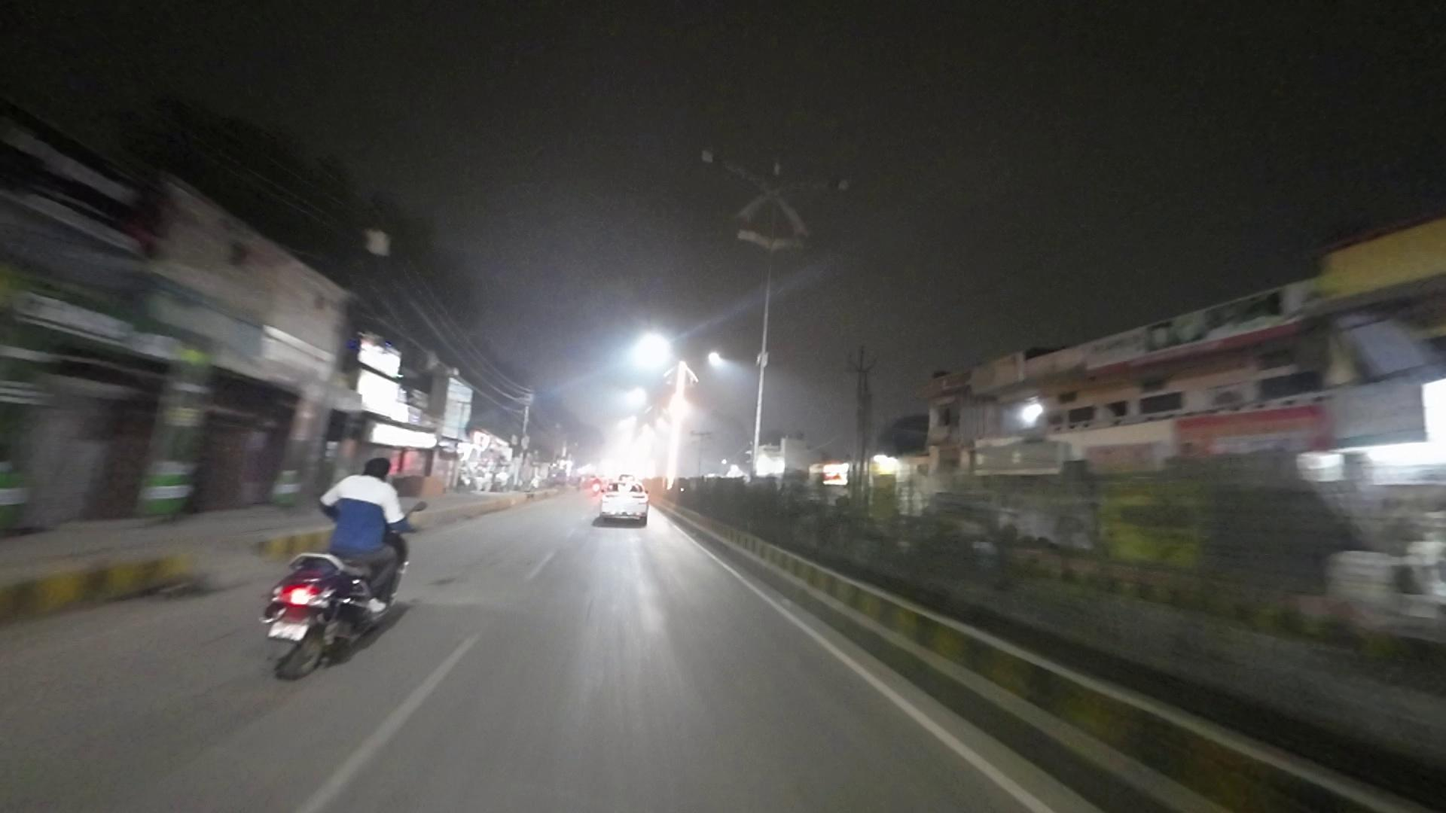streetlight: (698, 141, 764, 190), (781, 173, 852, 201)
